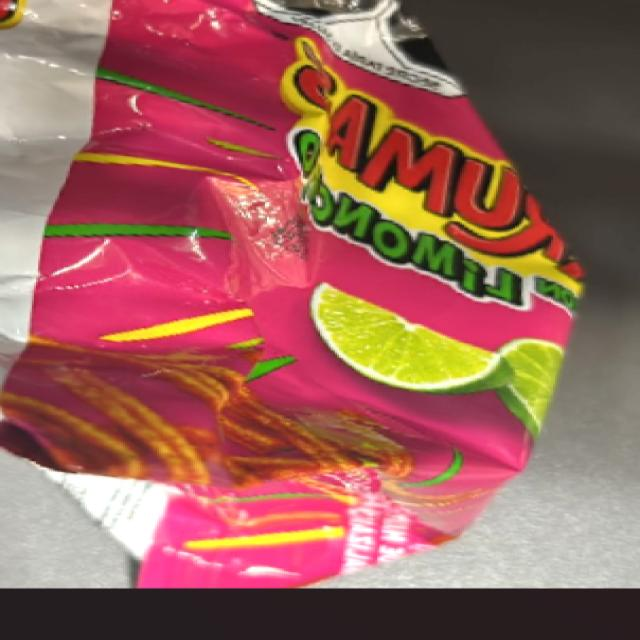churrumais: (114, 17, 580, 499)
